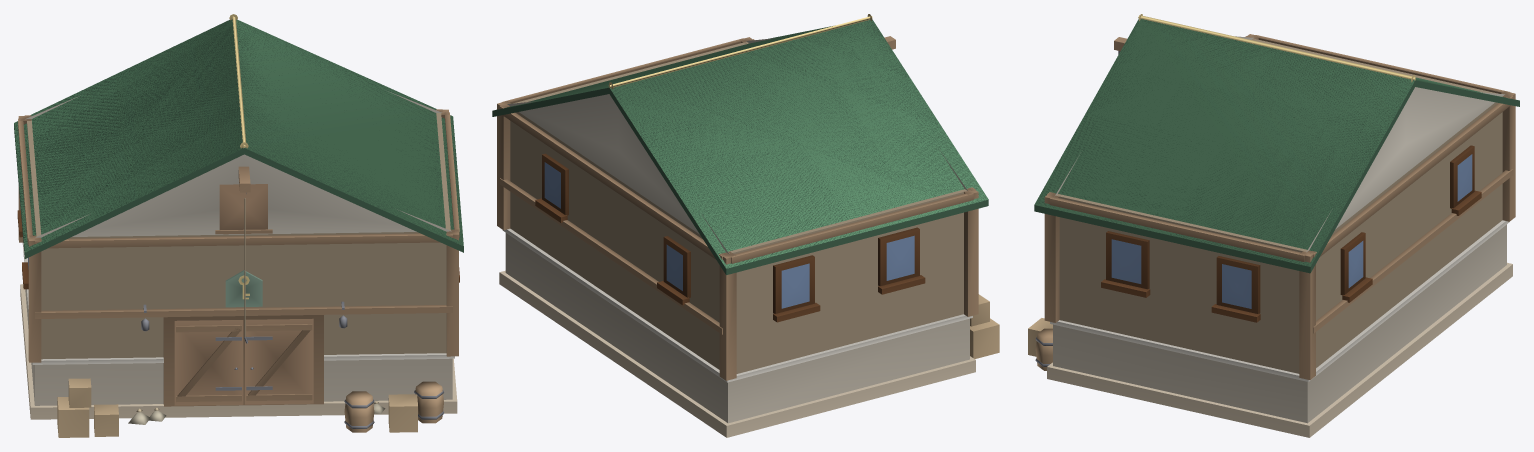
File: warehouse_lite.glb
3 renders of one model, left to right at view 1: azimuth 30°, elevation 25°; view 2: azimuth 150°, elevation 25°; view 3: azimuth 270°, elevation 25°, orthographic.
Visible parts, largest first — view 1: Ware_props, Ware_roof, Ware_stone; view 2: Ware_props, Ware_roof, Ware_stone; view 3: Ware_roof, Ware_props, Ware_stone.
Boxes of the visible parts, box(x1,y1,x2,y2) form: Ware_props: box(18, 14, 459, 437); Ware_roof: box(14, 19, 463, 258); Ware_stone: box(17, 91, 459, 419); Ware_props: box(497, 14, 999, 380); Ware_roof: box(492, 19, 988, 274); Ware_stone: box(499, 38, 975, 437); Ware_roof: box(1034, 19, 1519, 273); Ware_props: box(1028, 14, 1515, 379); Ware_stone: box(1047, 36, 1512, 437).
Bounding box in the file's own units: 12.1 × 6.97 × 11.01.
